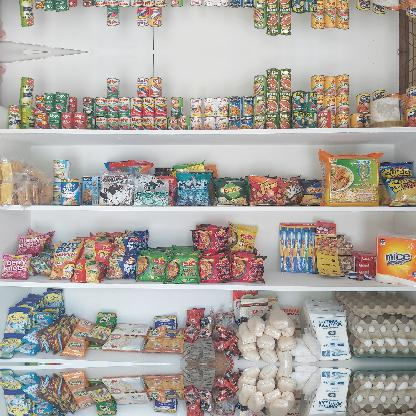Lady-s-Choice: (368, 97, 404, 127), (368, 0, 404, 8)
